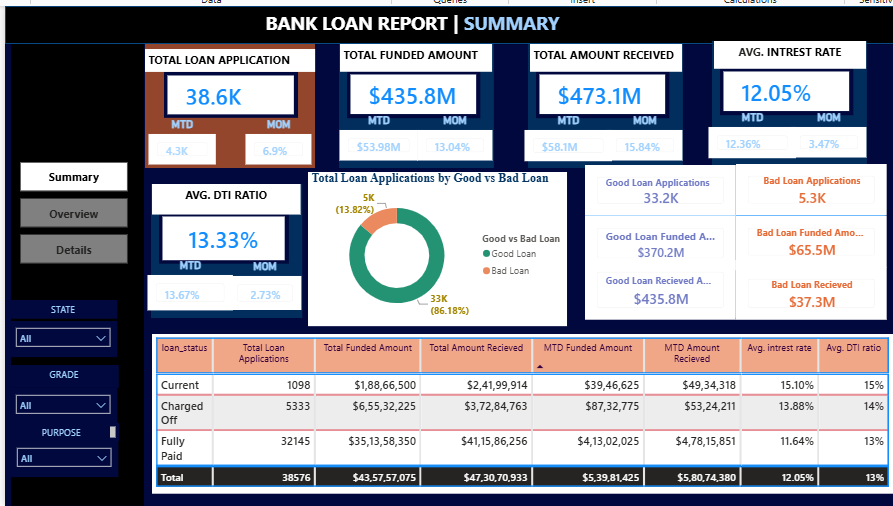

The page's visual inventory and layout, read from the dashboard file:
{"tool":"powerbi","page":{"name":"Summary","canvas":[1280,720],"ordinal":0},"visuals":[{"type":"shape","box":[8.6,54.7,191.5,665.3],"z":0},{"type":"shape","box":[1018.2,50.4,223.2,178.6],"z":1000,"group":"g4"},{"type":"shape","box":[201.6,54.7,244.8,178.6],"z":1000,"group":"g1"},{"type":"shape","box":[480.4,54.7,223.2,178.6],"z":1000,"group":"g2"},{"type":"shape","box":[753.2,54.7,223.2,178.6],"z":1000,"group":"g3"},{"type":"shape","box":[210.2,256.3,217.8,193],"z":1000,"group":"g5"},{"type":"slicer","fields":{"Values":["financial_loan.address_state"]},"box":[5.8,453.6,155.5,51.8],"z":1000,"group":"g6"},{"type":"actionButton","box":[0,0,100,40],"z":2000},{"type":"shape","box":[0,0,1280.2,54.7],"z":2500},{"type":"textbox","box":[370.1,0,447.8,51.8],"z":3000},{"type":"group","id":"g1","title":"Group 1","box":[201.6,54.7,244.8,178.6],"z":5000},{"type":"cardVisual","fields":{"Data":["financial_loan.Avg. intrest rate"]},"box":[1030,89.7,191.5,67.7],"z":5000,"group":"g4"},{"type":"cardVisual","fields":{"Data":["financial_loan.Total Funded Amount"]},"box":[492.2,94,191.5,67.7],"z":5000,"group":"g2"},{"type":"cardVisual","fields":{"Data":["financial_loan.Total Amount Recieved"]},"box":[765,94,191.5,67.7],"z":5000,"group":"g3"},{"type":"cardVisual","fields":{"Data":["financial_loan.Total Loan Applications"]},"box":[228.4,95,192.7,66.2],"z":5000,"group":"g1"},{"type":"cardVisual","fields":{"Data":["financial_loan.Avg. DTI ratio"]},"box":[221.7,298.8,186.9,73.1],"z":5000,"group":"g5"},{"type":"textbox","box":[1020.3,50.8,218.9,40.3],"z":6000,"group":"g4"},{"type":"group","id":"g2","title":"Group 1","box":[476.6,54.7,230.4,178.6],"z":6000},{"type":"textbox","box":[482.5,55.1,218.9,40.3],"z":6000,"group":"g2"},{"type":"textbox","box":[755.3,55.1,218.9,40.3],"z":6000,"group":"g3"},{"type":"textbox","box":[201.6,61.9,244.8,33.1],"z":6000,"group":"g1"},{"type":"textbox","box":[212.2,256.7,213.6,43.6],"z":6000,"group":"g5"},{"type":"group","id":"g3","title":"Group 1","box":[743,54.7,237.6,178.6],"z":7000},{"type":"cardVisual","title":"MTD","fields":{"Data":["financial_loan.MTD Intrest rate"]},"box":[1008,150.7,136.8,73.4],"z":7000,"group":"g4"},{"type":"cardVisual","title":"MTD","fields":{"Data":["financial_loan.MTD Amount Recieved"]},"box":[743,155,136.8,73.4],"z":7000,"group":"g3"},{"type":"cardVisual","title":"MTD","fields":{"Data":["financial_loan.MTD Funded Amount"]},"box":[476.6,155.9,123.8,72],"z":7000,"group":"g2"},{"type":"cardVisual","title":"MTD","fields":{"Data":["financial_loan.MTD Total Loan Applications"]},"box":[201.6,161.3,107.4,72],"z":7000,"group":"g1"},{"type":"cardVisual","title":"MTD","fields":{"Data":["financial_loan.MTD DTI ratio"]},"box":[200.2,364.7,133.5,79.4],"z":7000,"group":"g5"},{"type":"group","id":"g4","title":"Group 1","box":[1008,50.4,237.6,178.6],"z":8000},{"type":"cardVisual","title":"MOM","fields":{"Data":["financial_loan.MOM Intrest Rate"]},"box":[1126.9,151.6,118.1,72],"z":8000,"group":"g4"},{"type":"cardVisual","title":"MOM","fields":{"Data":["financial_loan.MOM funded Amount"]},"box":[589,155.9,118.1,72],"z":8000,"group":"g2"},{"type":"cardVisual","title":"MOM","fields":{"Data":["financial_loan.MOM Amount Recieved"]},"box":[861.9,155.9,118.1,72],"z":8000,"group":"g3"},{"type":"cardVisual","title":"MOM","fields":{"Data":["financial_loan.MOM Loan Applications"]},"box":[340.6,161.3,105.8,72],"z":8000,"group":"g1"},{"type":"cardVisual","title":"MOM","fields":{"Data":["financial_loan.MOM DTI ratio"]},"box":[316.2,365.7,115.2,77.8],"z":8000,"group":"g5"},{"type":"group","id":"g5","title":"Group 1","box":[200.2,256.3,231.8,193],"z":9000},{"type":"shape","box":[440.6,239,368.6,201.6],"z":10000},{"type":"shape","box":[835.2,229,433.4,220.3],"z":11000},{"type":"donutChart","fields":{"Category":["financial_loan.Good vs Bad Loan"],"Y":["financial_loan.Total Loan Applications"]},"box":[436.3,239,373,221.8],"z":12000},{"type":"cardVisual","fields":{"Data":["financial_loan.Good Loan Applications"]},"box":[835.2,229,217.4,73.4],"z":13000},{"type":"cardVisual","fields":{"Data":["financial_loan.Good Loan Funded Amount"]},"box":[835.2,302.4,217,78],"z":14000},{"type":"cardVisual","fields":{"Data":["financial_loan.Good Loan Recieved Amount"]},"box":[835.2,365.8,217.4,86.4],"z":15000},{"type":"cardVisual","fields":{"Data":["financial_loan.Bad Loan Applications"]},"box":[1052.6,227.5,217.4,74],"z":16000},{"type":"cardVisual","fields":{"Data":["financial_loan.Bad Loan Funded Amount"]},"box":[1052.6,302.4,217.4,74],"z":17000},{"type":"cardVisual","fields":{"Data":["financial_loan.Bad Loan Recieved"]},"box":[1052.6,375.8,217.4,76],"z":18000},{"type":"tableEx","fields":{"Values":["financial_loan.loan_status","financial_loan.Total Loan Applications","financial_loan.Total Funded Amount","financial_loan.Total Amount Recieved","financial_loan.MTD Funded Amount","financial_loan.MTD Amount Recieved","financial_loan.Avg. intrest rate","financial_loan.Avg. DTI ratio"]},"box":[211.7,472.3,1069,230],"z":19000},{"type":"textbox","box":[5.8,423.4,155.5,27.4],"z":20000,"group":"g6"},{"type":"slicer","fields":{"Values":["financial_loan.grade"]},"box":[5.8,550.1,155.5,51.8],"z":21000,"group":"g6"},{"type":"textbox","box":[5.8,517,158.4,33.1],"z":22000,"group":"g6"},{"type":"textbox","box":[7.2,600.5,157,25.9],"z":23000,"group":"g7"},{"type":"slicer","fields":{"Values":["financial_loan.purpose"]},"box":[7.2,626.4,155.5,51.8],"z":24000,"group":"g6"},{"type":"group","id":"g6","title":"Group 2","box":[5.8,423.4,158.4,254.9],"z":24001,"group":"g7"},{"type":"group","id":"g7","title":"Group 3","box":[5.8,423.4,158.4,254.9],"z":24002},{"type":"pageNavigator","box":[21.6,224.6,155.5,148.3],"z":24003}]}

Visuals, with their boxes on the page's 1280x720 design canvas (x1, y1, x2, y2). These are canvas units, not pixel positions in the 893x506 screenshot, which may show the page scaled, cropped or inside an application window:
shape: 9/55/200/720
shape: 1018/50/1241/229
shape: 202/55/446/233
shape: 480/55/704/233
shape: 753/55/976/233
shape: 210/256/428/449
slicer - financial_loan.address_state: 6/454/161/505
actionButton: 0/0/100/40
shape: 0/0/1280/55
textbox: 370/0/818/52
"Group 1" group: 202/55/446/233
cardVisual - financial_loan.Avg. intrest rate: 1030/90/1222/157
cardVisual - financial_loan.Total Funded Amount: 492/94/684/162
cardVisual - financial_loan.Total Amount Recieved: 765/94/956/162
cardVisual - financial_loan.Total Loan Applications: 228/95/421/161
cardVisual - financial_loan.Avg. DTI ratio: 222/299/409/372
textbox: 1020/51/1239/91
"Group 1" group: 477/55/707/233
textbox: 482/55/701/95
textbox: 755/55/974/95
textbox: 202/62/446/95
textbox: 212/257/426/300
"Group 1" group: 743/55/981/233
"MTD" cardVisual: 1008/151/1145/224
"MTD" cardVisual: 743/155/880/228
"MTD" cardVisual: 477/156/600/228
"MTD" cardVisual: 202/161/309/233
"MTD" cardVisual: 200/365/334/444
"Group 1" group: 1008/50/1246/229
"MOM" cardVisual: 1127/152/1245/224
"MOM" cardVisual: 589/156/707/228
"MOM" cardVisual: 862/156/980/228
"MOM" cardVisual: 341/161/446/233
"MOM" cardVisual: 316/366/431/444
"Group 1" group: 200/256/432/449
shape: 441/239/809/441
shape: 835/229/1269/449
donutChart - financial_loan.Good vs Bad Loan x financial_loan.Total Loan Applications: 436/239/809/461
cardVisual - financial_loan.Good Loan Applications: 835/229/1053/302
cardVisual - financial_loan.Good Loan Funded Amount: 835/302/1052/380
cardVisual - financial_loan.Good Loan Recieved Amount: 835/366/1053/452
cardVisual - financial_loan.Bad Loan Applications: 1053/228/1270/302
cardVisual - financial_loan.Bad Loan Funded Amount: 1053/302/1270/376
cardVisual - financial_loan.Bad Loan Recieved: 1053/376/1270/452
tableEx - financial_loan.loan_status x financial_loan.Total Loan Applications: 212/472/1281/702
textbox: 6/423/161/451
slicer - financial_loan.grade: 6/550/161/602
textbox: 6/517/164/550
textbox: 7/600/164/626
slicer - financial_loan.purpose: 7/626/163/678
"Group 2" group: 6/423/164/678
"Group 3" group: 6/423/164/678
pageNavigator: 22/225/177/373
